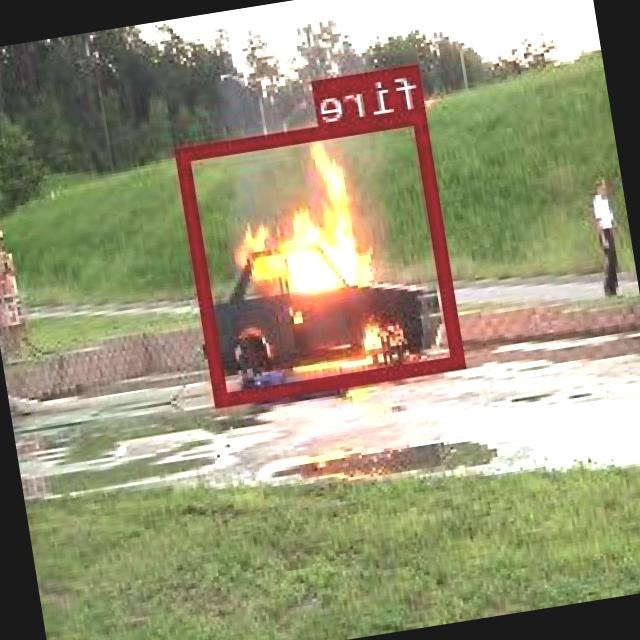fire: (178, 110, 467, 403)
